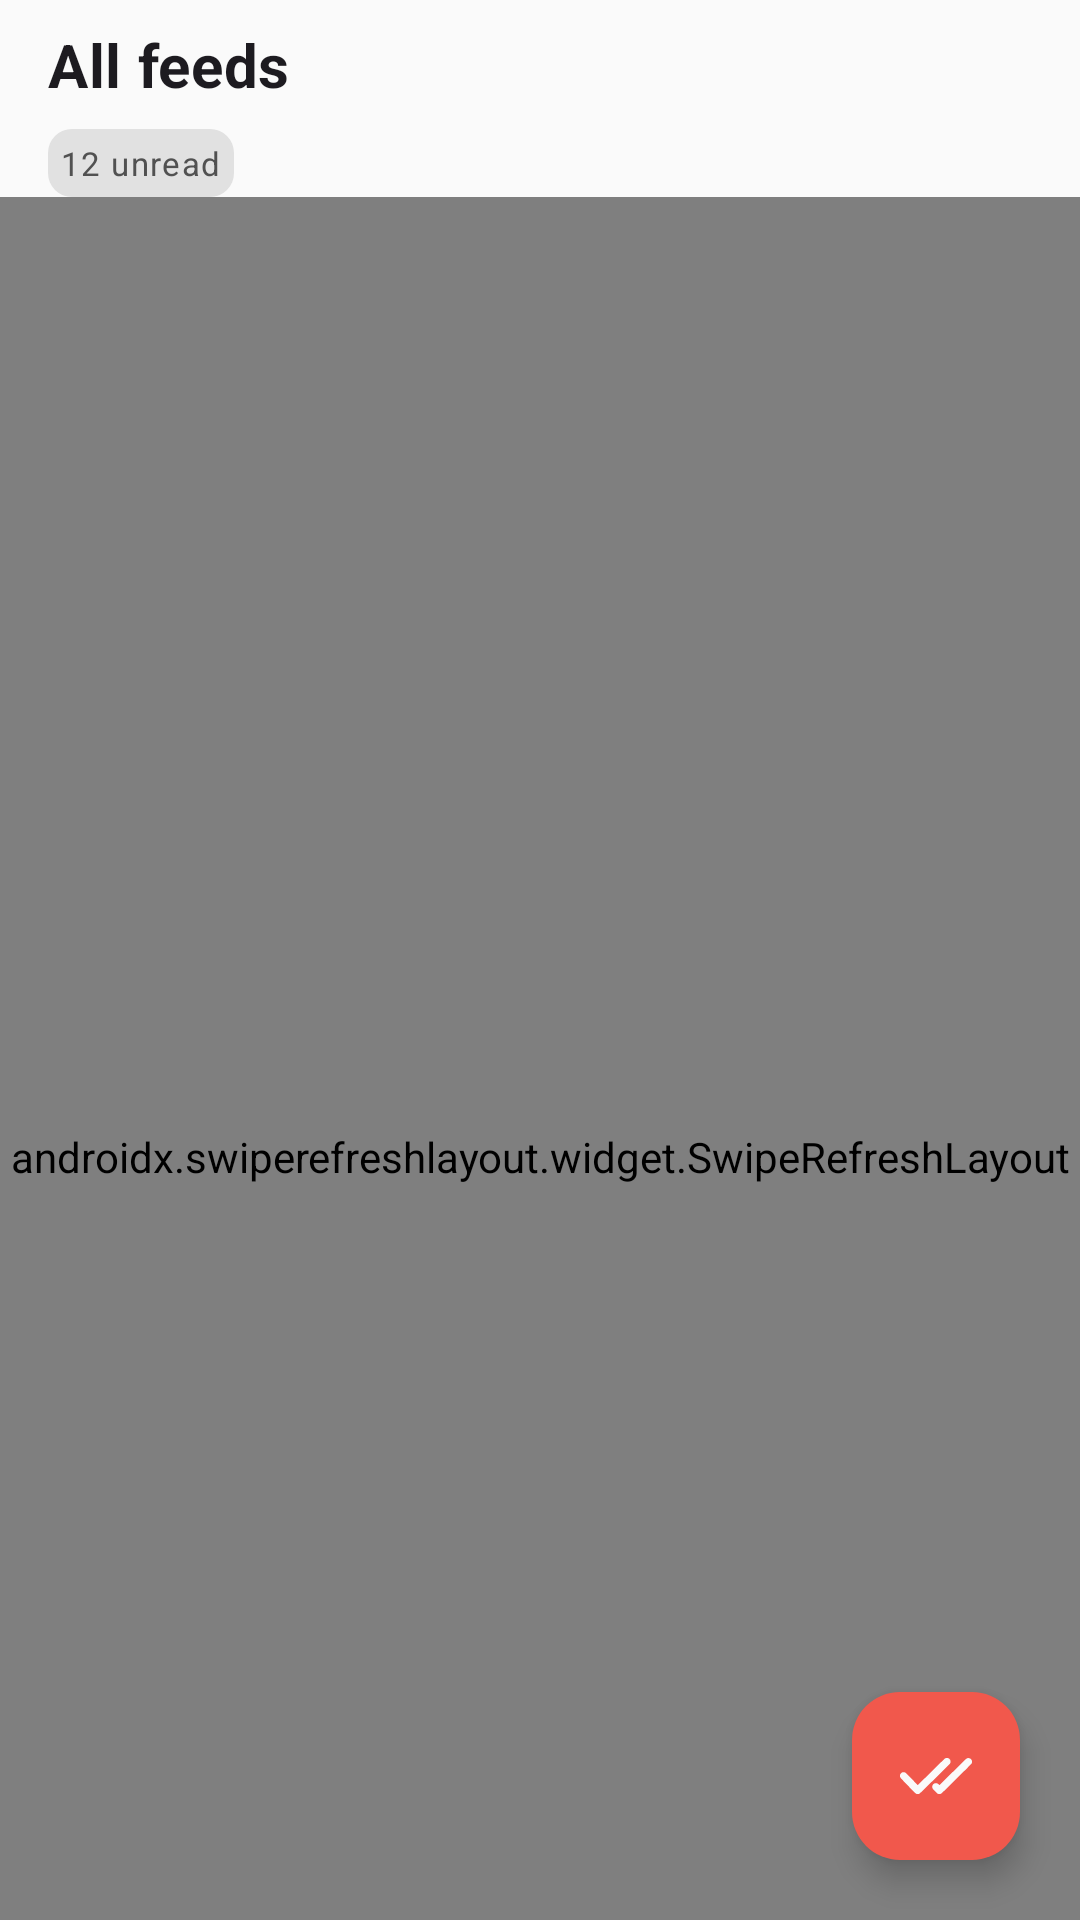

Icon click points for this 1080px×1920px phone screenshot, format (x=x, y=y):
read: (x=936, y=1776)
